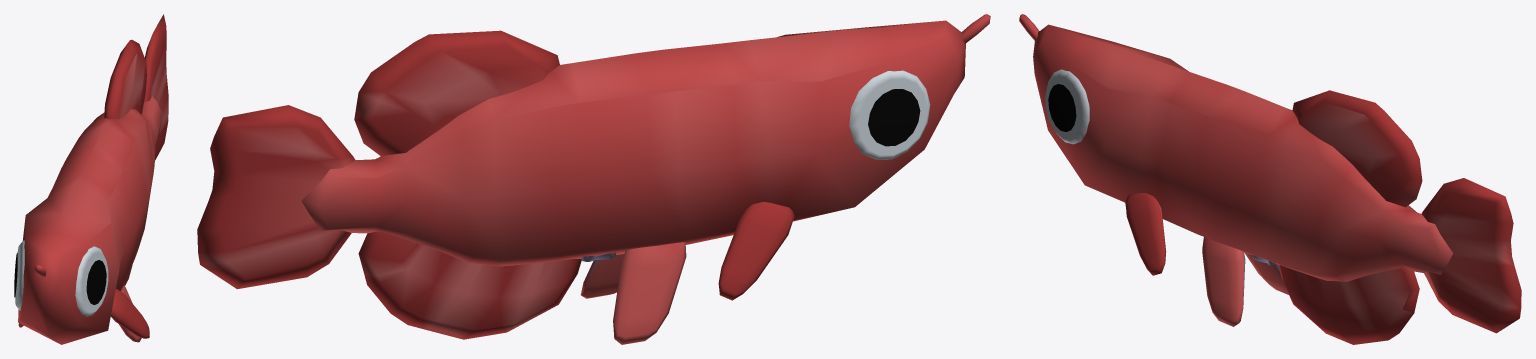
File: Arowana.glb
3 renders of one model, left to right at view 1: azimuth 30°, elevation 25°; view 2: azimuth 150°, elevation 25°; view 3: azimuth 270°, elevation 25°, orthographic. The views are drawn at different scales.
Parts seen in each view (by area): view 1: 5; view 2: 5; view 3: 5.
Boxes of the visible parts, x1,y1,x2,y2 form: 5: (14, 14, 168, 344); 5: (197, 14, 990, 344); 5: (1019, 14, 1521, 344).
Bounding box in the file's own units: 0.6929 × 0.4256 × 0.769.
